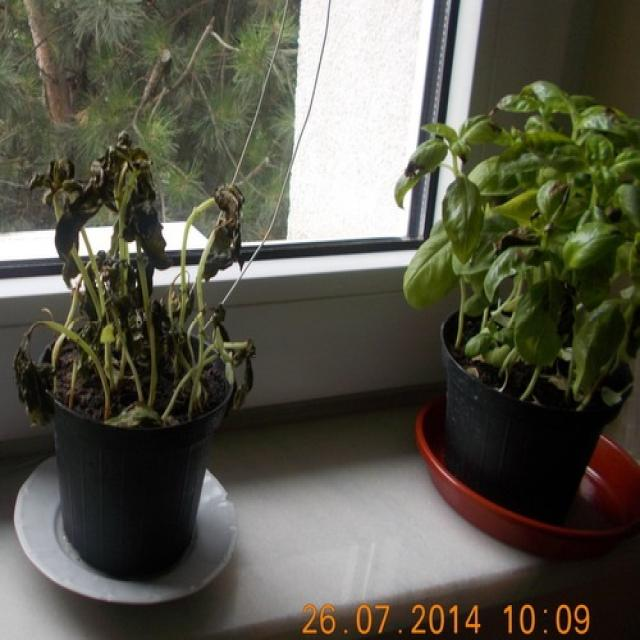unhealthy: (28, 144, 243, 412)
